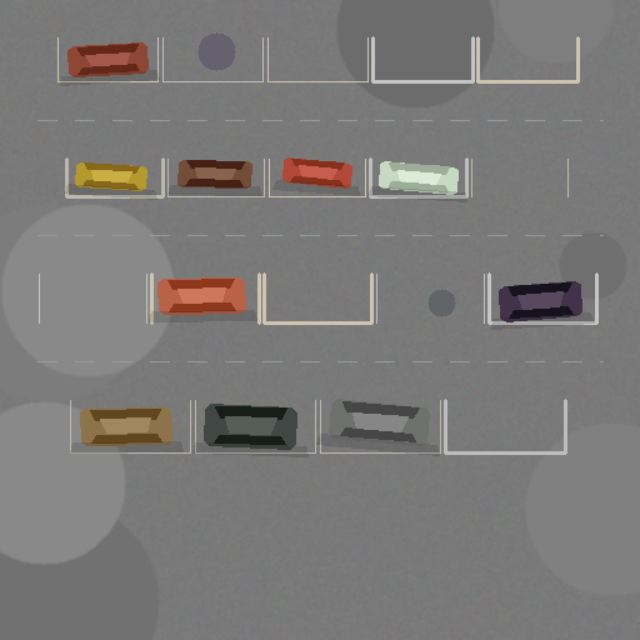space-empty: (445, 400, 565, 453), (376, 274, 484, 322), (39, 274, 146, 322), (264, 274, 371, 322), (162, 37, 262, 81), (268, 37, 368, 81), (372, 37, 472, 81), (478, 37, 578, 81), (471, 159, 567, 196)
space-occupied: (70, 400, 190, 453), (195, 400, 315, 453), (320, 400, 440, 453), (151, 274, 259, 322), (489, 274, 596, 322), (58, 37, 158, 81), (66, 159, 163, 196), (167, 159, 264, 196), (269, 159, 365, 196), (370, 159, 466, 196)
